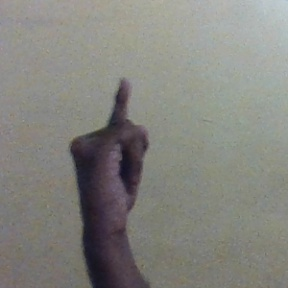I: (71, 75, 154, 213)
